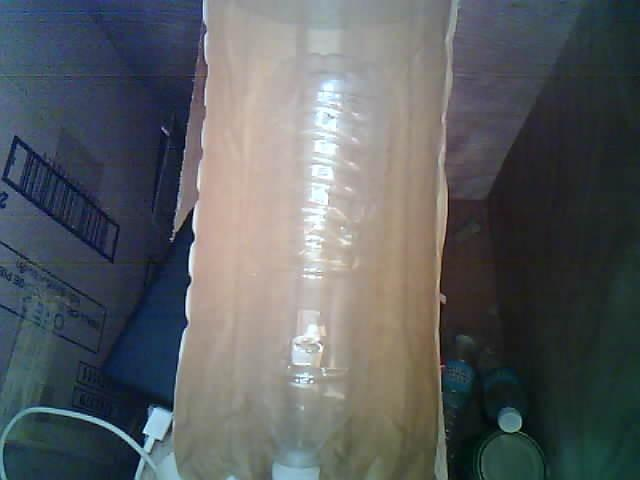large_bottle: (239, 50, 396, 480)
